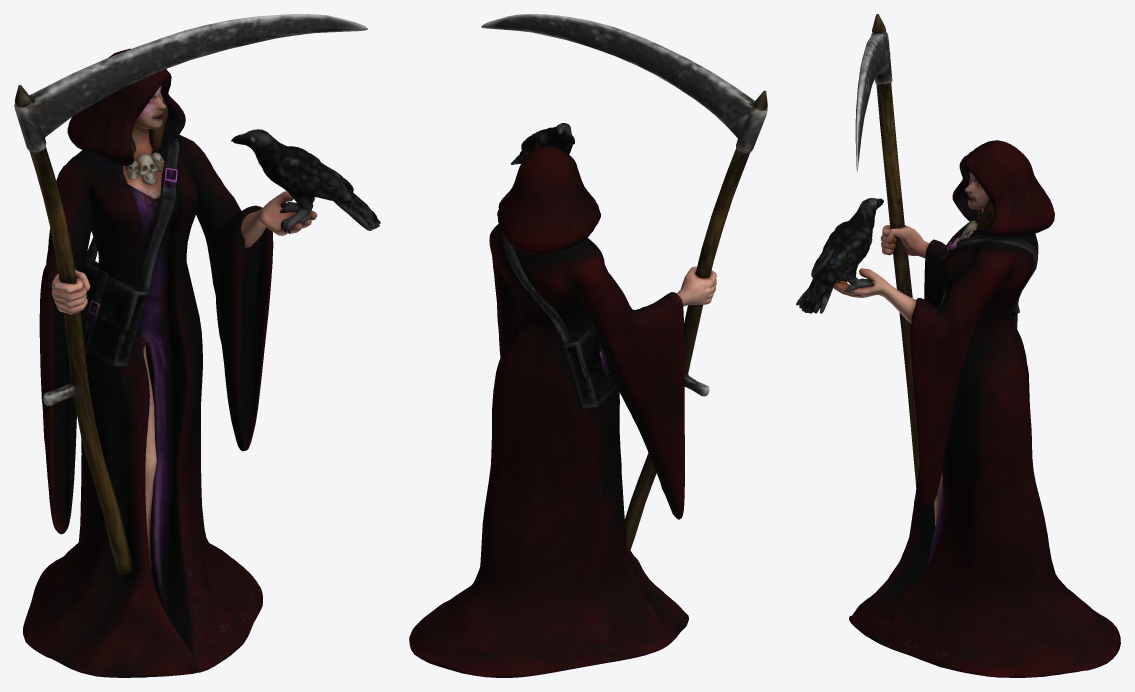
The model's file is MZ4250 - Human Female Necromancy Wizard_2.glb.
The picture shows the model from 3 angles, left to right: view 1: azimuth 30°, elevation 25°; view 2: azimuth 150°, elevation 25°; view 3: azimuth 270°, elevation 25°; orthographic projection. The views are drawn at different scales.
Visible parts, largest first — view 1: Crow t.001; view 2: Crow t.001; view 3: Crow t.001.
Boxes of the visible parts, x1,y1,x2,y2 form: Crow t.001: [14, 14, 380, 677]; Crow t.001: [409, 14, 767, 677]; Crow t.001: [796, 14, 1120, 677].
Bounding box in the file's own units: 0.5925 × 1.07 × 0.5638.
Materials: 1 (1 with a texture image).
